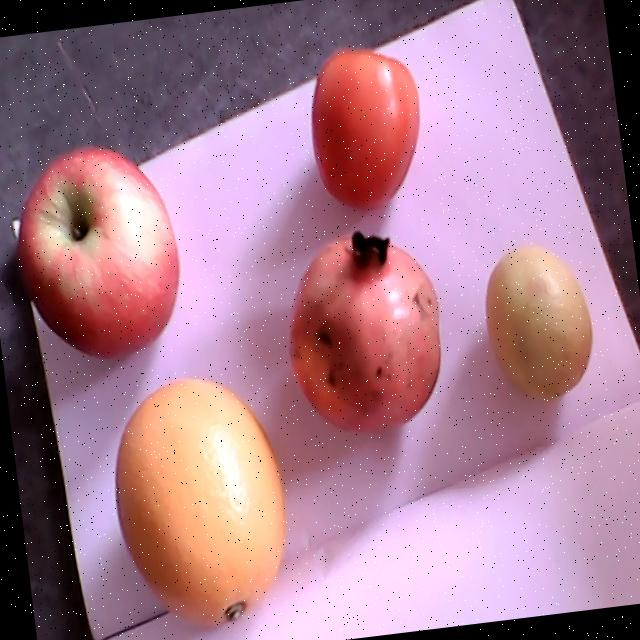apple: (15, 145, 180, 357)
lemon: (484, 245, 592, 399)
orange: (114, 379, 284, 627)
pomegranate: (288, 229, 441, 429)
tomato: (310, 49, 421, 208)
